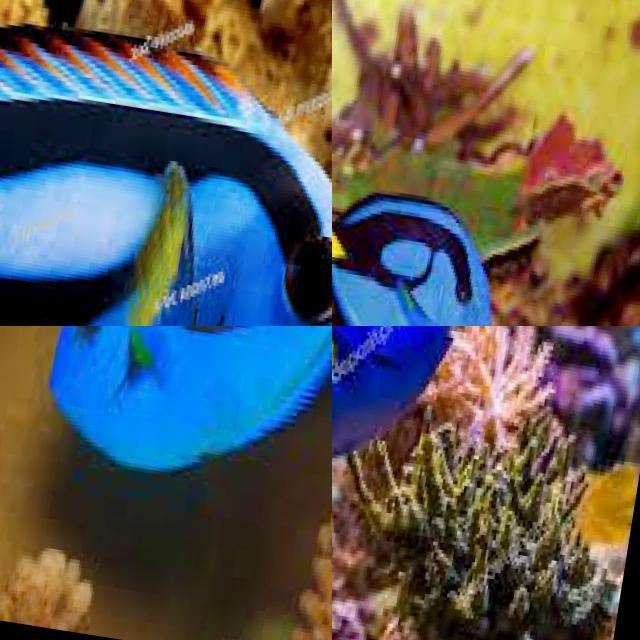BlueTang: (0, 0, 332, 326), (21, 326, 332, 550), (332, 326, 546, 550), (332, 162, 532, 326)
